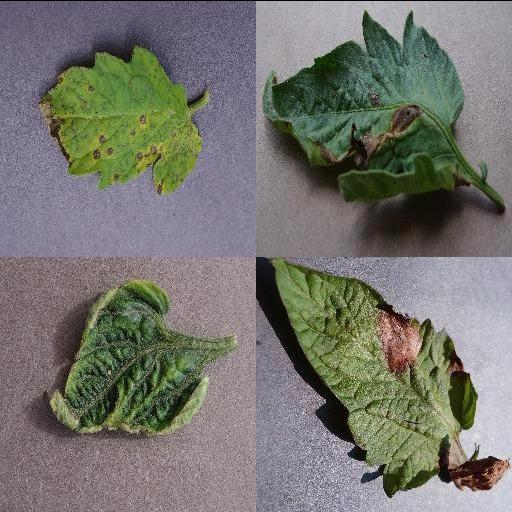Early Blight: (262, 12, 468, 200)
Late Blight: (269, 256, 512, 498)
Septoria: (37, 44, 201, 191)
Yellow Leaf Curl Virus: (44, 280, 210, 435)
